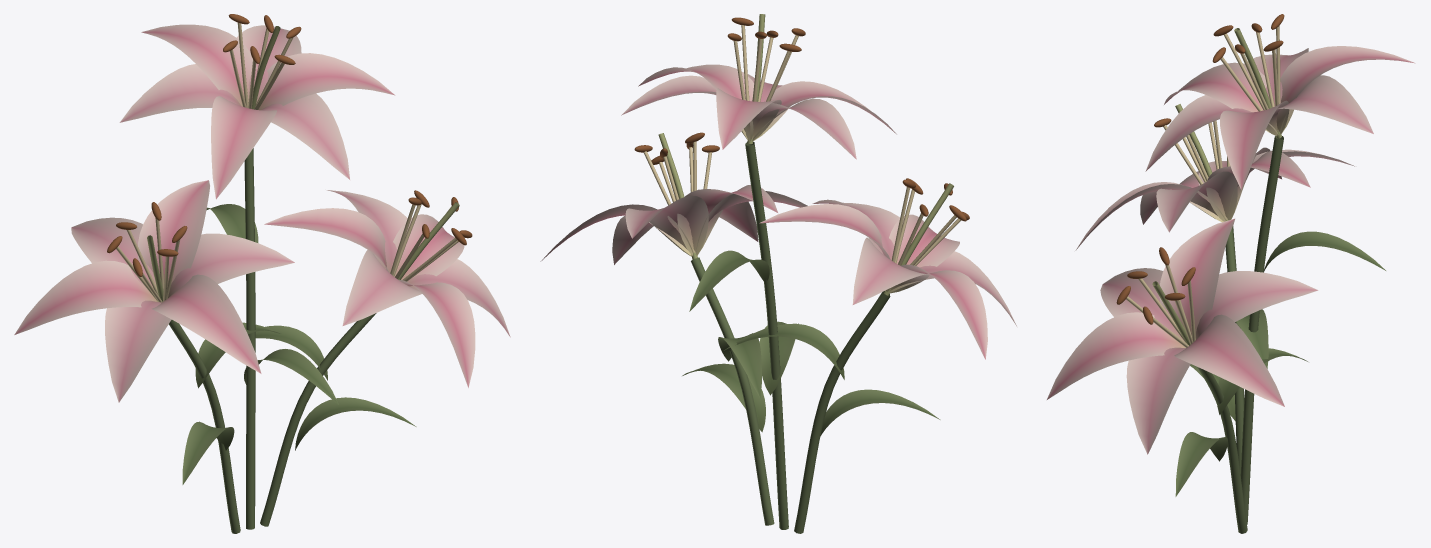
The model's file is pink-lilies.glb.
3 views of the same model, side by side, from view 1: azimuth 30°, elevation 25°; view 2: azimuth 150°, elevation 25°; view 3: azimuth 270°, elevation 25° (orthographic).
Parts seen in each view (by area): view 1: Corolla0Surface, Corolla1Surface, Corolla2Surface, Stem1Surface, Stem2Surface, Stem0Surface; view 2: Corolla0Surface, Corolla1Surface, Corolla2Surface, Stem1Surface, Stem0Surface, Stem2Surface; view 3: Corolla2Surface, Corolla1Surface, Corolla0Surface, Stem1Surface, Stem2Surface, Stem0Surface.
Boxes of the visible parts, <box> form: Corolla0Surface: <box>14,180,294,402</box>; Corolla1Surface: <box>119,14,395,199</box>; Corolla2Surface: <box>264,190,510,387</box>; Stem1Surface: <box>206,148,338,529</box>; Stem2Surface: <box>255,313,416,526</box>; Stem0Surface: <box>169,320,280,533</box>; Corolla0Surface: <box>759,178,1016,359</box>; Corolla1Surface: <box>621,14,896,159</box>; Corolla2Surface: <box>540,132,807,264</box>; Stem1Surface: <box>689,142,798,529</box>; Stem0Surface: <box>724,291,940,533</box>; Stem2Surface: <box>682,257,774,525</box>; Corolla2Surface: <box>1047,218,1318,454</box>; Corolla1Surface: <box>1145,14,1415,189</box>; Corolla0Surface: <box>1075,104,1354,250</box>; Stem1Surface: <box>1240,136,1385,524</box>; Stem2Surface: <box>1175,348,1307,533</box>; Stem0Surface: <box>1190,226,1268,473</box>.
Bounding box in the file's own units: 0.4943 × 0.5413 × 0.3554.
